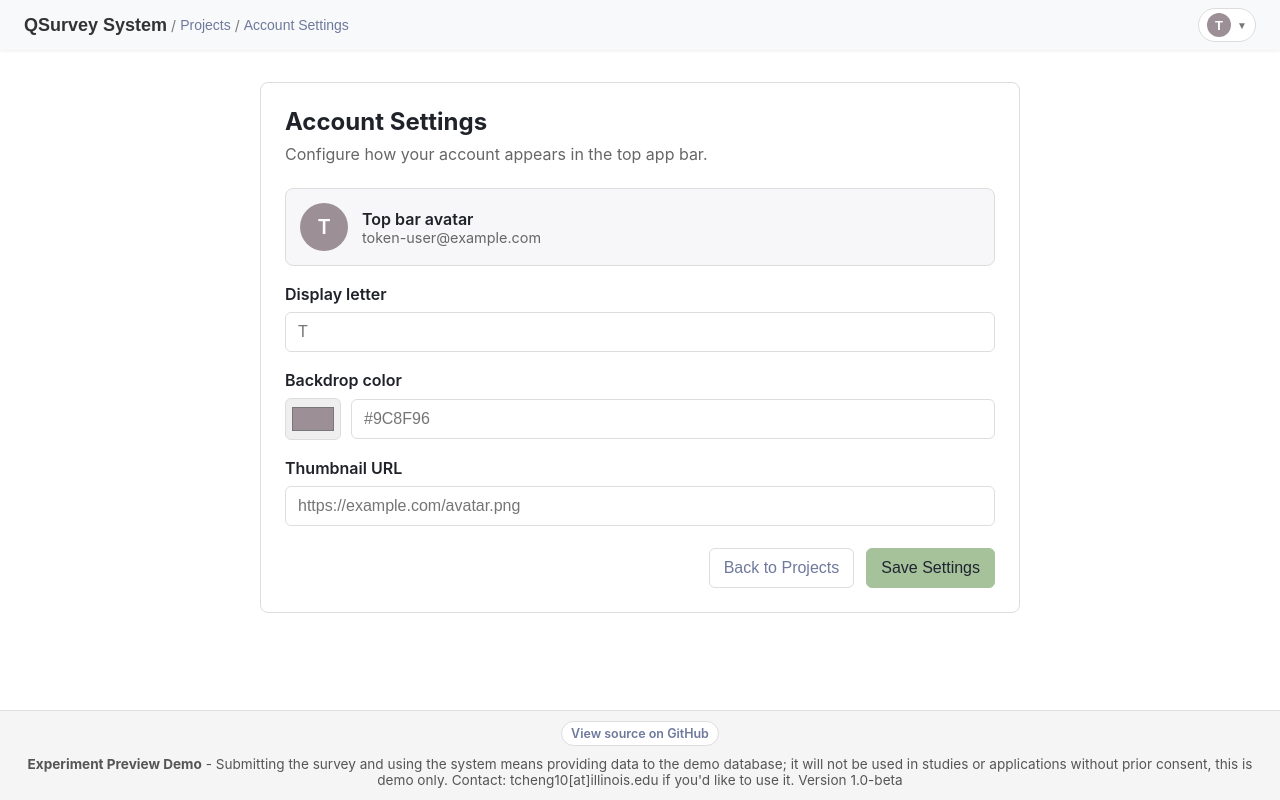
Test: AccountSettingsPage › uses token auth claims for avatar settings when stored user details are missing
Step 1. Type "t" into the field labelled "Display letter" → (640, 332), box x1=285 y1=312 x2=995 y2=352
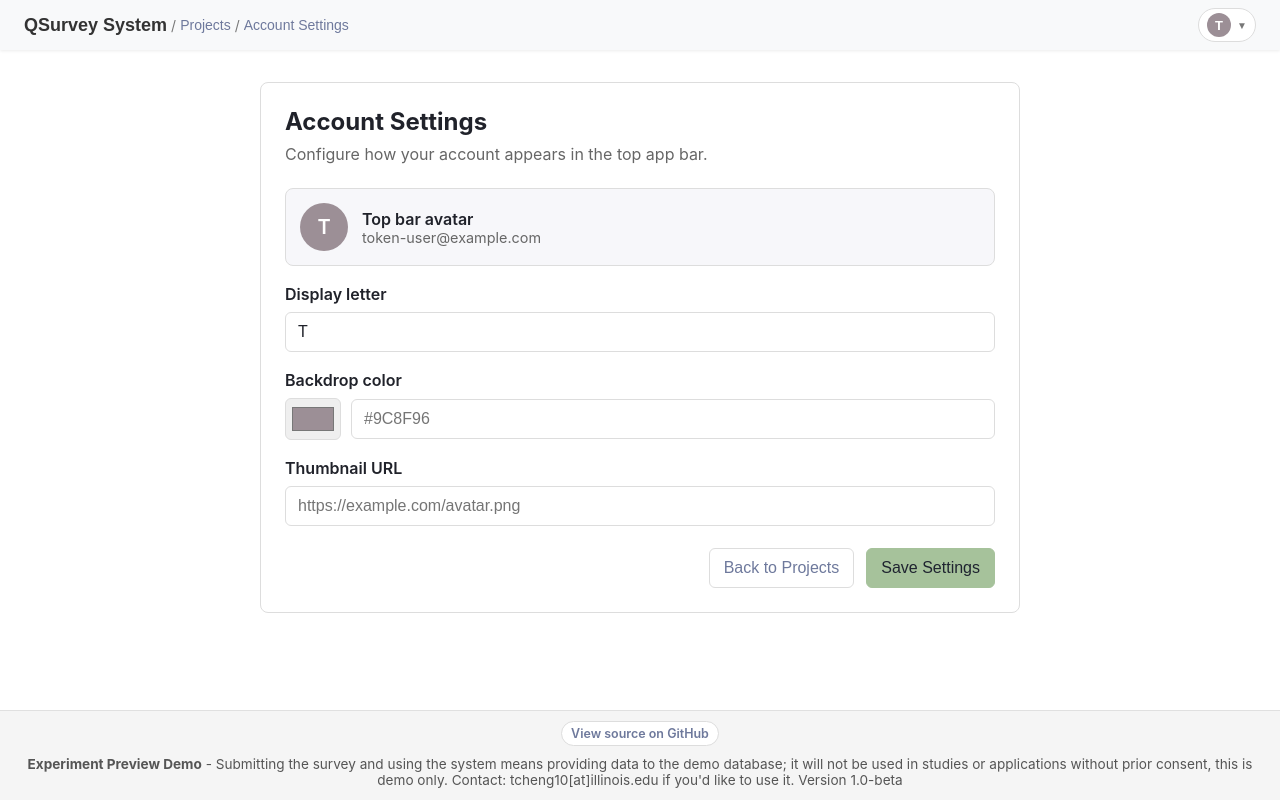
Step 2. Click the button "Save Settings" → (931, 568), box x1=866 y1=548 x2=995 y2=588
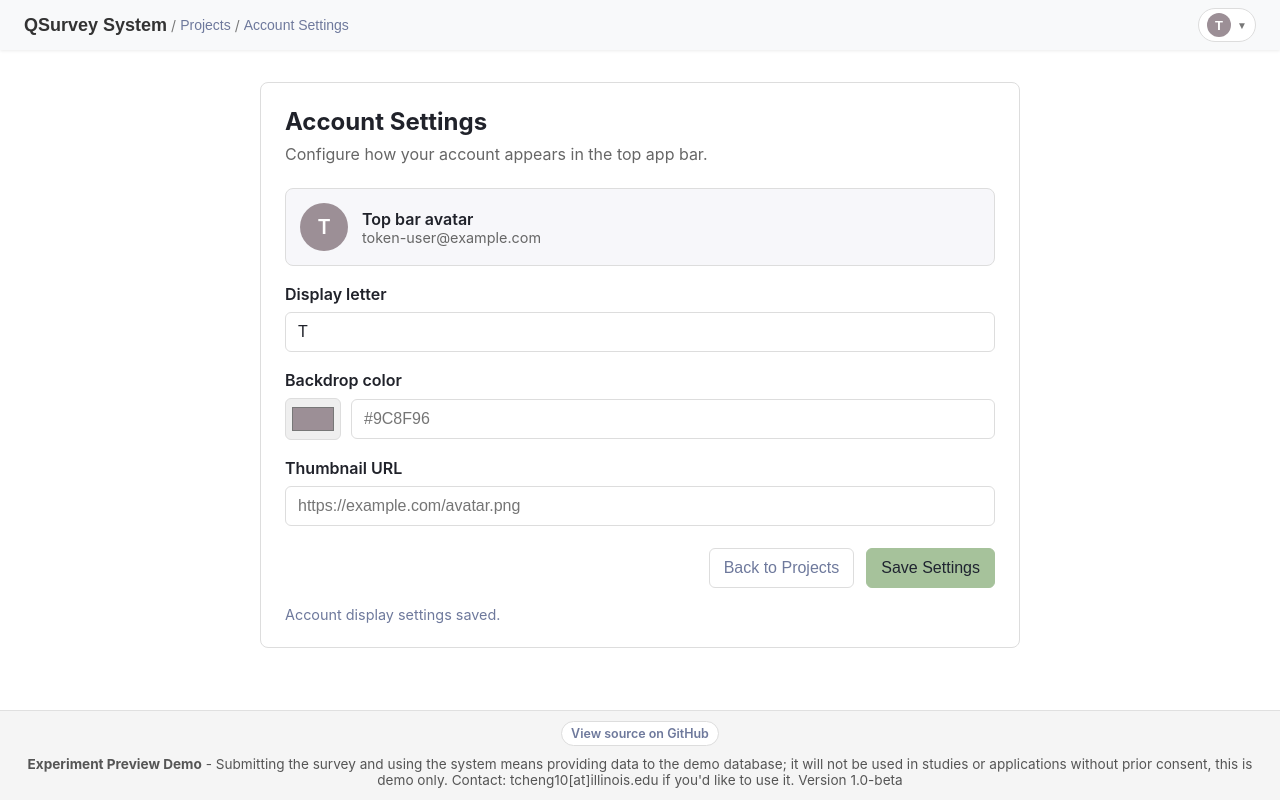
Now the message reads "Account display settings saved.", box x1=285 y1=606 x2=500 y2=623
